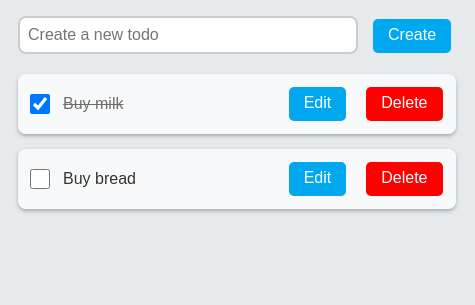
TodoApp › edits a todo
This screenshot has width=475, height=305.
Step 1. Type "something to edit" into the field with test id "inputField" → x=188, y=35, box [18,16,358,54]
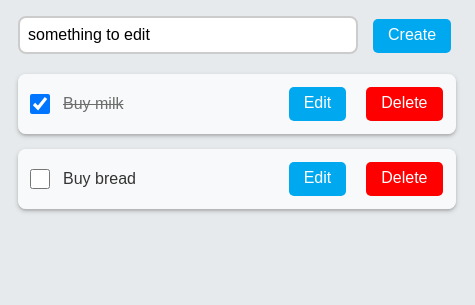
Step 2. Click the button with test id "create-button" → x=412, y=36, box [373,19,451,53]
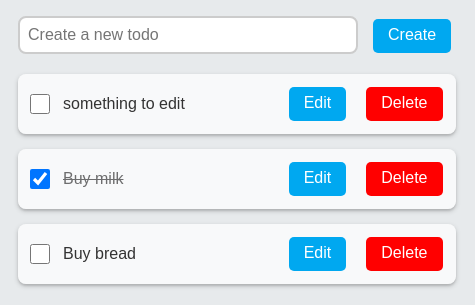
Step 3. Click the button with test id "editButton0" → x=318, y=104, box [289,87,346,121]
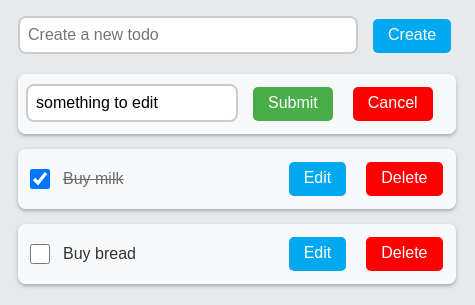
Result: the field with test id "editField" is shown
Result: the button with test id "submit-button0" is shown at [253,87,333,121]
Step 4. Replace the text in the field with test id "editField" with "something edited" → x=132, y=103, box [26,84,238,122]
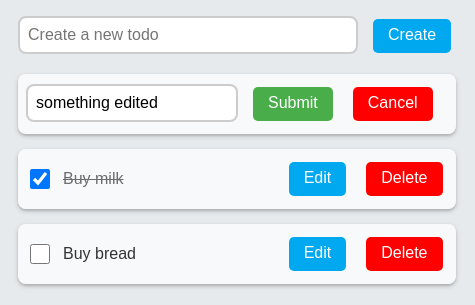
Step 5. Click the button with test id "submit-button0" → x=293, y=104, box [253,87,333,121]
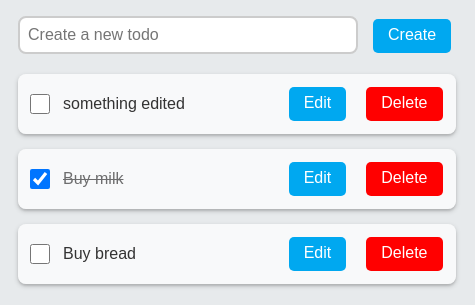
Result: the text "something edited" is shown at [63,95,185,112]
